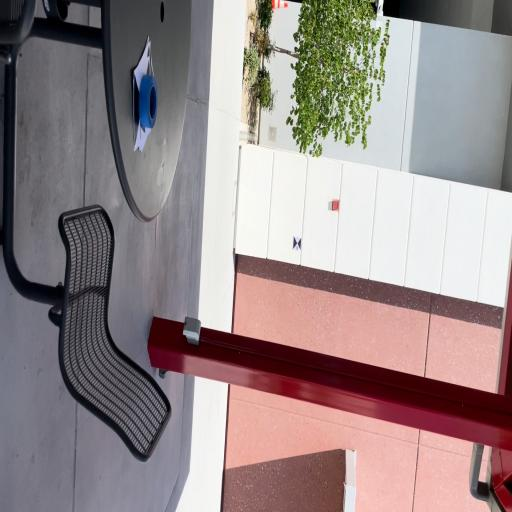target9: (293, 236, 302, 251)
